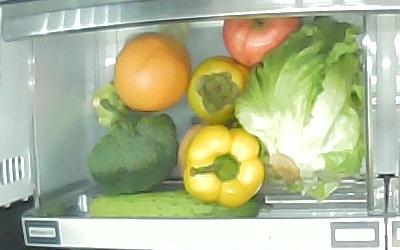apple: (223, 16, 302, 67)
broccoli: (88, 81, 179, 195)
cucumber: (90, 190, 259, 218)
grapefruit: (114, 32, 191, 112)
lettuce: (234, 19, 364, 194)
paprika: (183, 125, 264, 207)
persimmon: (187, 56, 251, 125)
